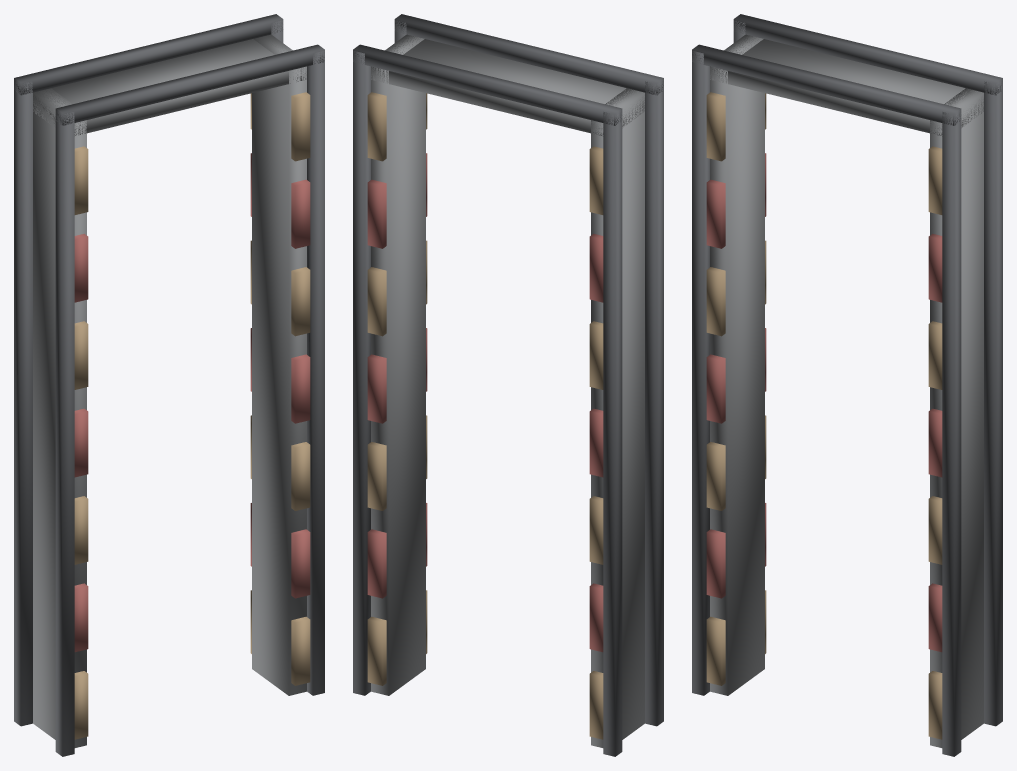
The model's file is doorway_brick_return_w76_h220_d24.glb.
3 views of the same model, side by side, from view 1: azimuth 30°, elevation 25°; view 2: azimuth 150°, elevation 25°; view 3: azimuth 330°, elevation 25° (orthographic).
Parts seen in each view (by area): view 1: world; view 2: world; view 3: world.
Part boxes in pixels (bbox=[...]): world: bbox=[14, 14, 324, 756]; world: bbox=[353, 14, 663, 756]; world: bbox=[692, 14, 1002, 756].
Size of the model in its own units: 0.9868 by 2.31 by 0.3165.
